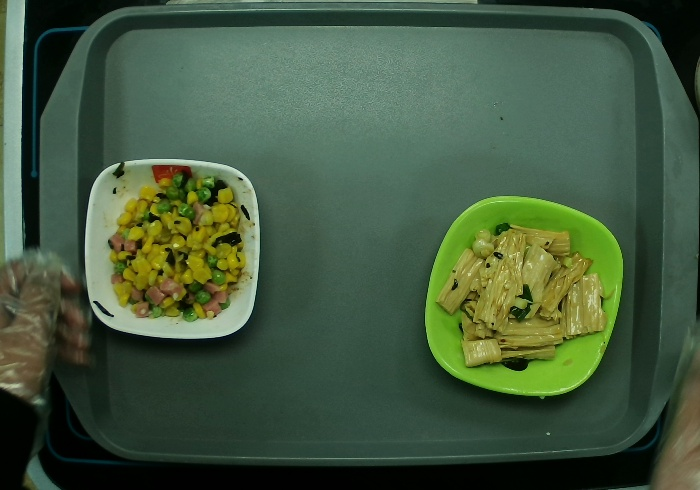SHKJ-Bai_Se_Xiao_Fang_Die: (83, 158, 262, 340)
SHKJ-Lv_Se_Cai_Die: (423, 192, 628, 399)
